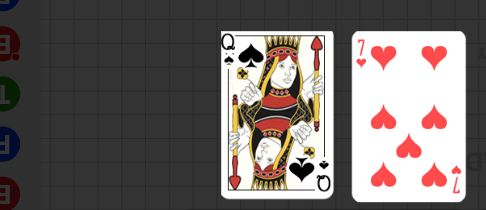7H: (450, 164, 464, 196)
